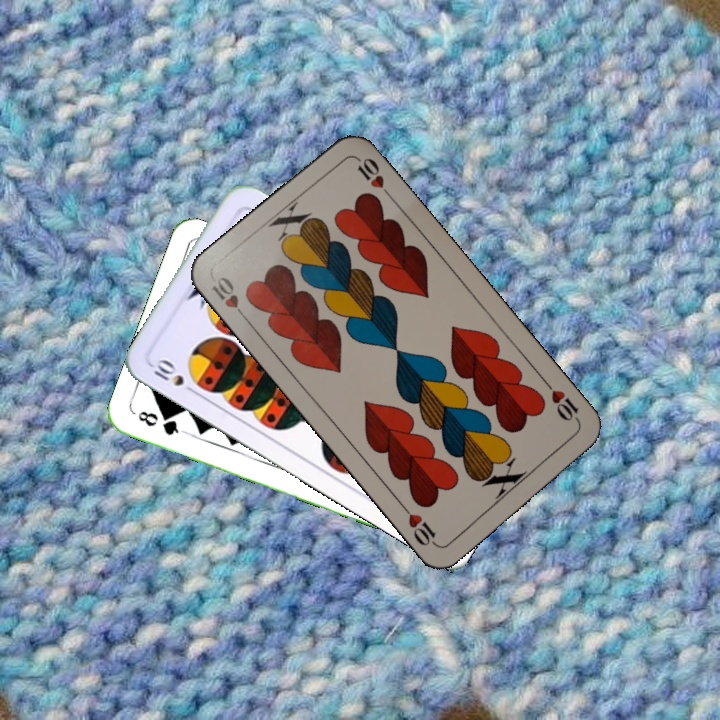G8: (133, 407, 188, 438)
H10: (207, 272, 251, 325), (540, 377, 583, 426)
S10: (149, 354, 203, 397)
